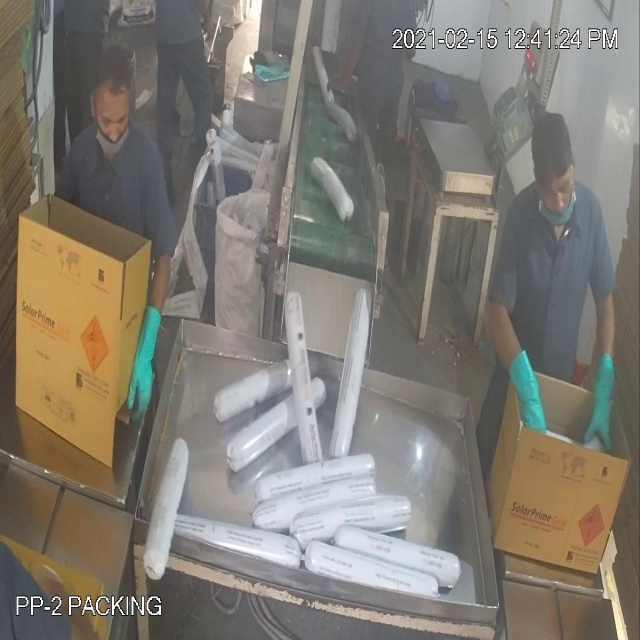Guantes: (108, 280, 164, 431), (496, 335, 549, 455), (581, 332, 618, 459)
Sin_guantes: (326, 35, 368, 95)
